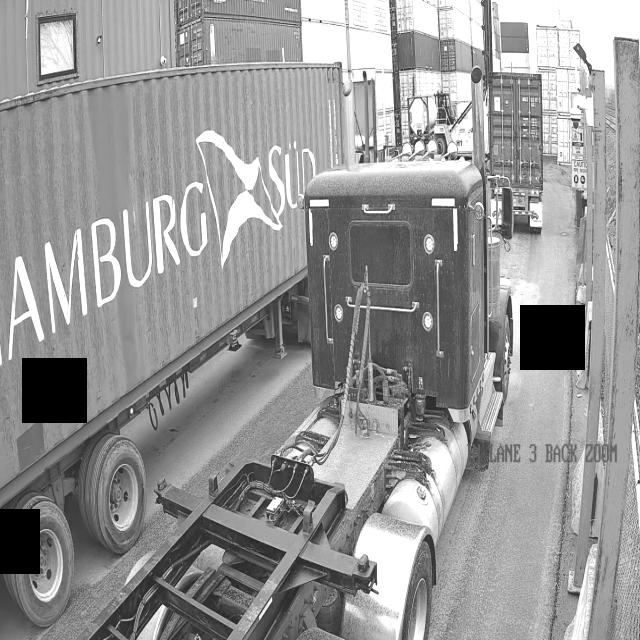truck_with_container: (0, 61, 345, 504), (488, 73, 543, 232), (79, 447, 145, 553), (6, 547, 72, 626)
truck_without_container: (80, 158, 514, 640)
